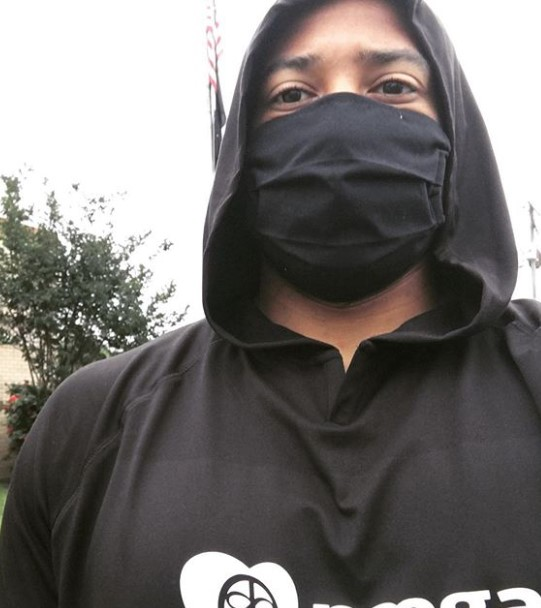face_with_mask: (234, 2, 463, 313)
